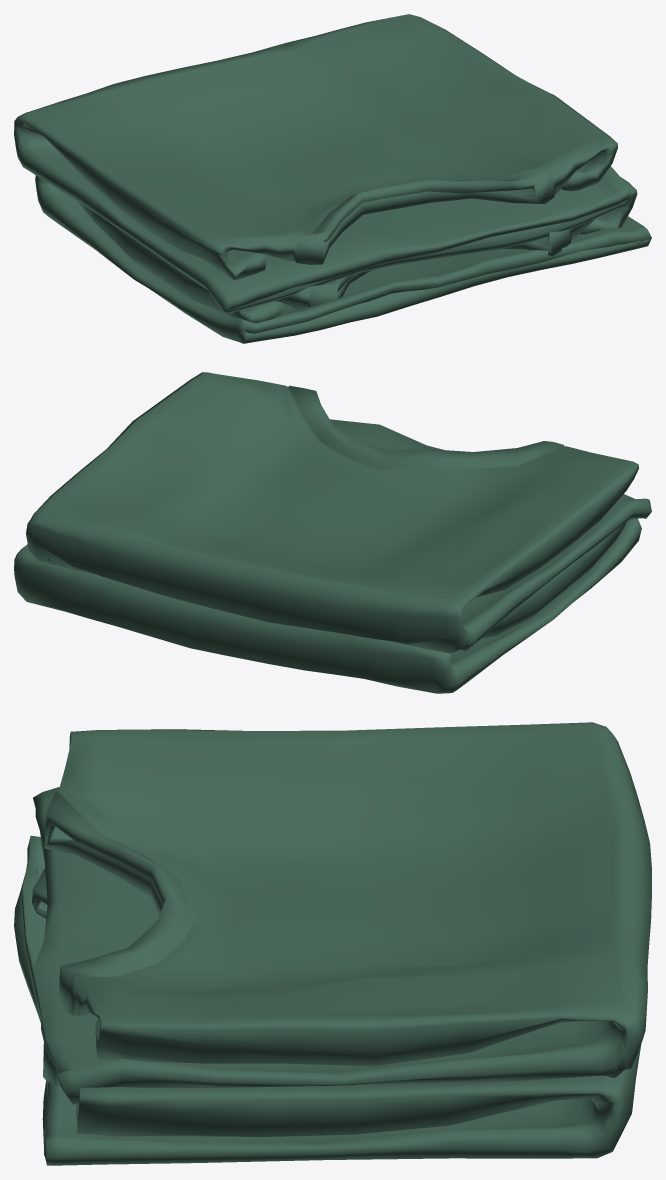
Rendered from Folded_T_Shirt04.fbx.
3 renders of one model, top to bottom at view 1: azimuth 30°, elevation 25°; view 2: azimuth 150°, elevation 25°; view 3: azimuth 270°, elevation 25°, orthographic. The views are drawn at different scales.
Visible parts, largest first — view 1: Folded_T_Shirt04; view 2: Folded_T_Shirt04; view 3: Folded_T_Shirt04.
Boxes of the visible parts, x1=… form: Folded_T_Shirt04: x1=14, y1=14, x2=651, y2=343; Folded_T_Shirt04: x1=14, y1=372, x2=651, y2=693; Folded_T_Shirt04: x1=14, y1=722, x2=651, y2=1165.
Bounding box in the file's own units: 38.43 × 8.12 × 33.24.
